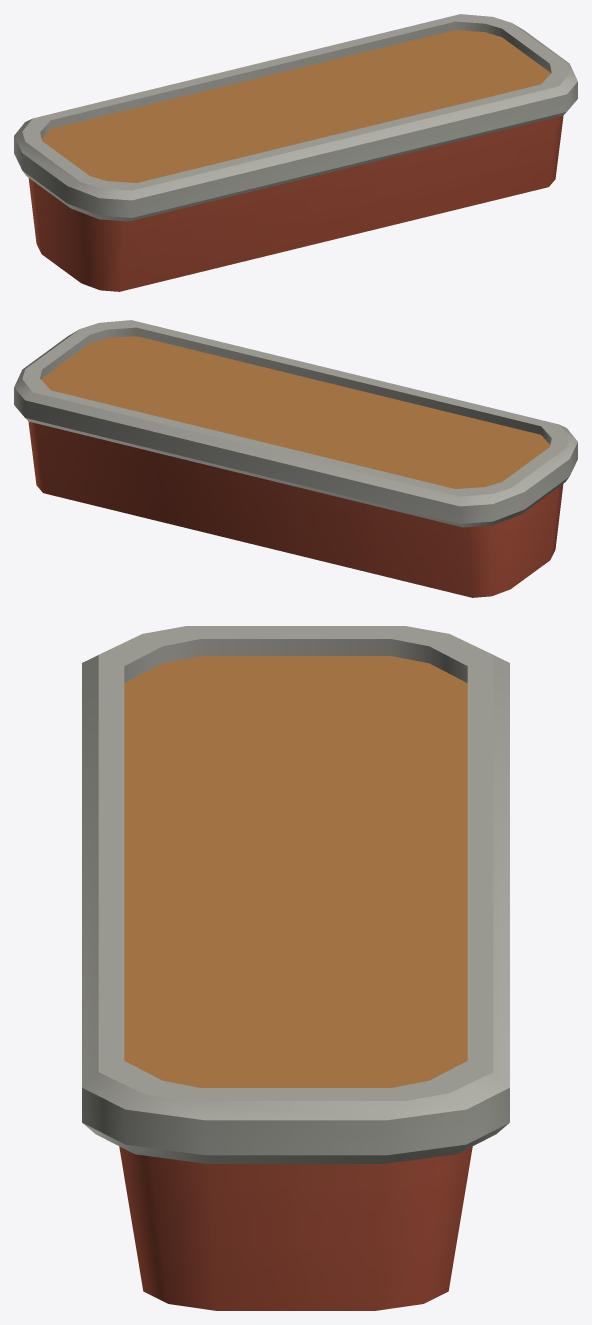
File: BushPot_1_C.fbx
The picture shows the model from 3 angles, top to bottom: view 1: azimuth 30°, elevation 25°; view 2: azimuth 150°, elevation 25°; view 3: azimuth 270°, elevation 25°; orthographic projection. The views are drawn at different scales.
Parts seen in each view (by area): view 1: BushPot_1_C; view 2: BushPot_1_C; view 3: BushPot_1_C.
Boxes of the visible parts, x1,y1,x2,y2 form: BushPot_1_C: (14, 14, 577, 291); BushPot_1_C: (14, 320, 577, 597); BushPot_1_C: (82, 626, 509, 1310).
Bounding box in the file's own units: 220 × 45.75 × 81.2.
